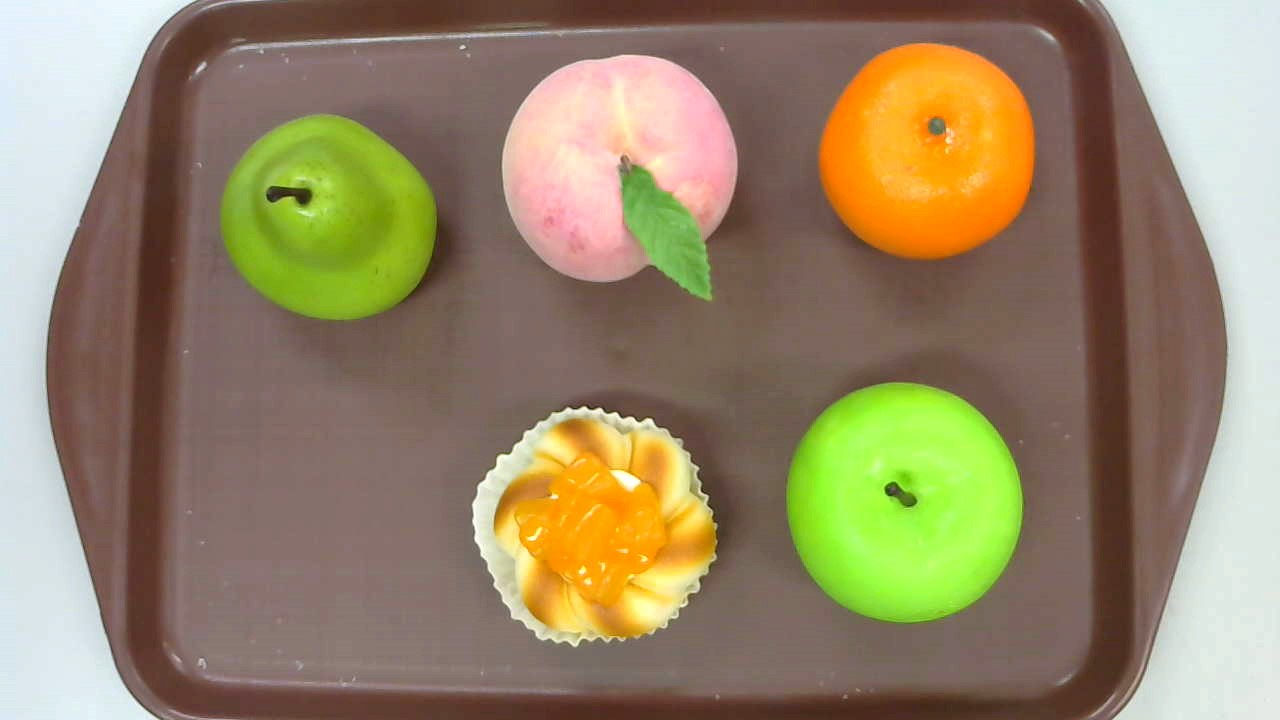green apple: (785, 382, 1024, 623)
green pear: (219, 112, 437, 322)
mango tart: (470, 405, 721, 648)
orange: (816, 43, 1036, 262)
peach: (502, 53, 739, 303)
